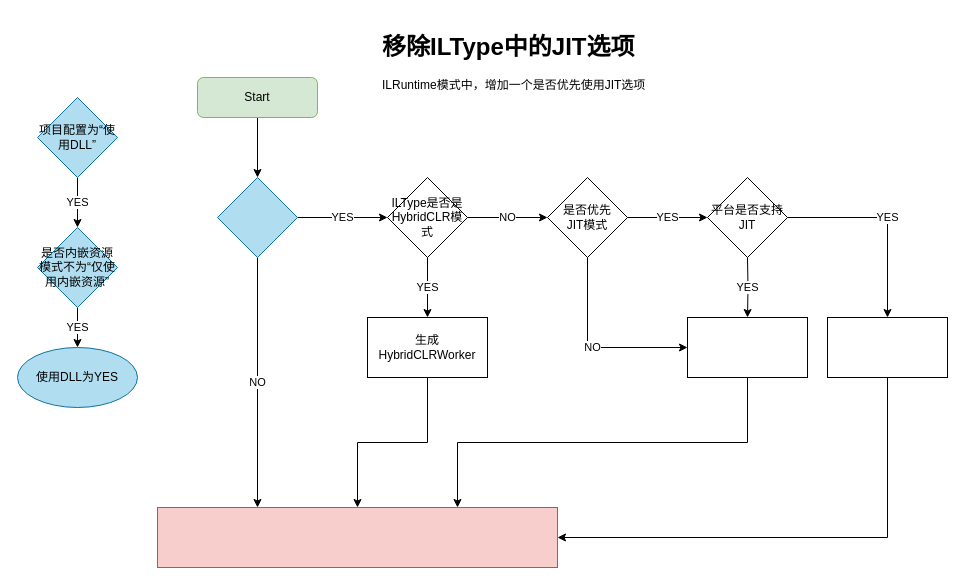
Image size: 965x585. Some labels were removed from this diagram. Each missing label, with the centre of its shape:
"反射执行入口代码" goes at [357,537].
"是否使用DLL" goes at [257,217].
"生成 ILRuntimeWorker" goes at [747,347].
"生成 JITWorker" goes at [887,347].
